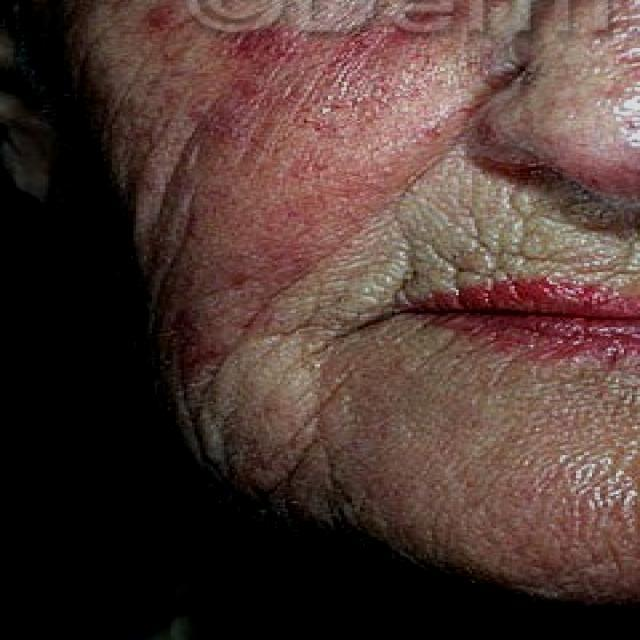Rosacea: (166, 39, 441, 304)
